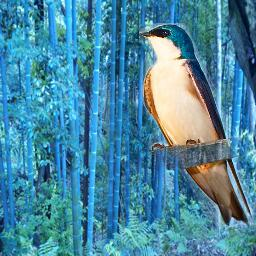Swallow: (139, 23, 254, 227)
